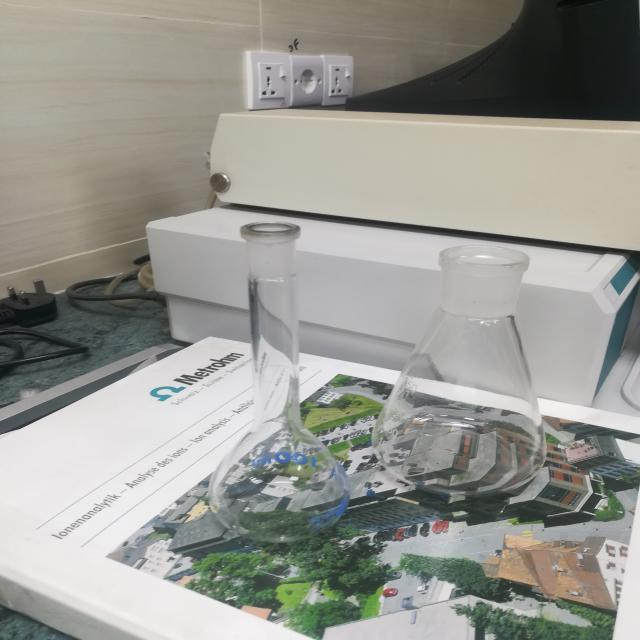Conical_Flask: (372, 222, 592, 508)
Volumetric_Flask: (183, 204, 363, 556)
